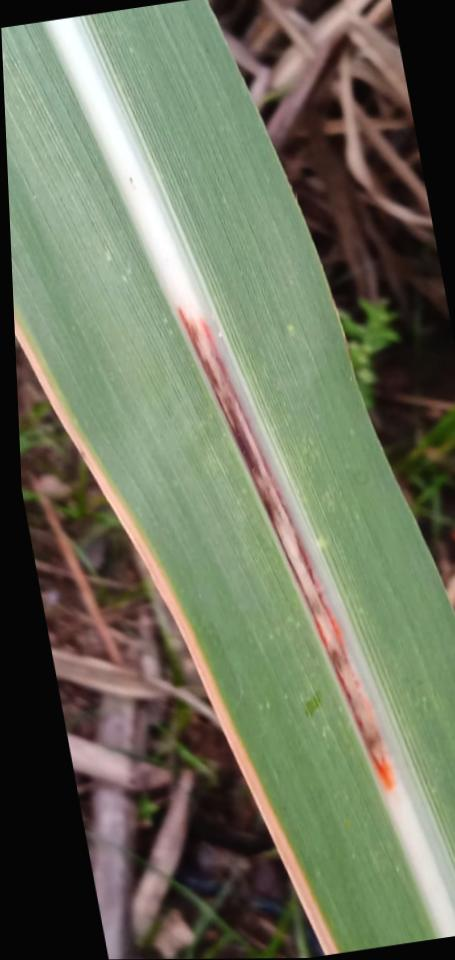RedRot: (177, 306, 394, 791)
Yellow: (14, 312, 342, 954)
